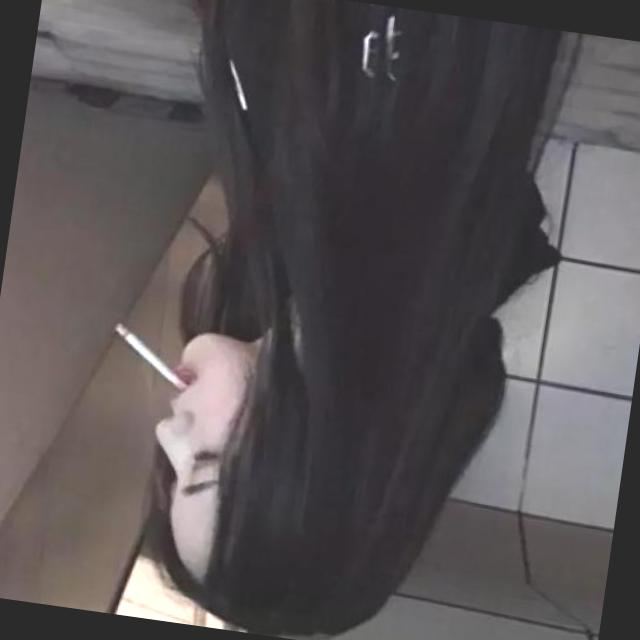cigarette: (100, 312, 194, 396)
